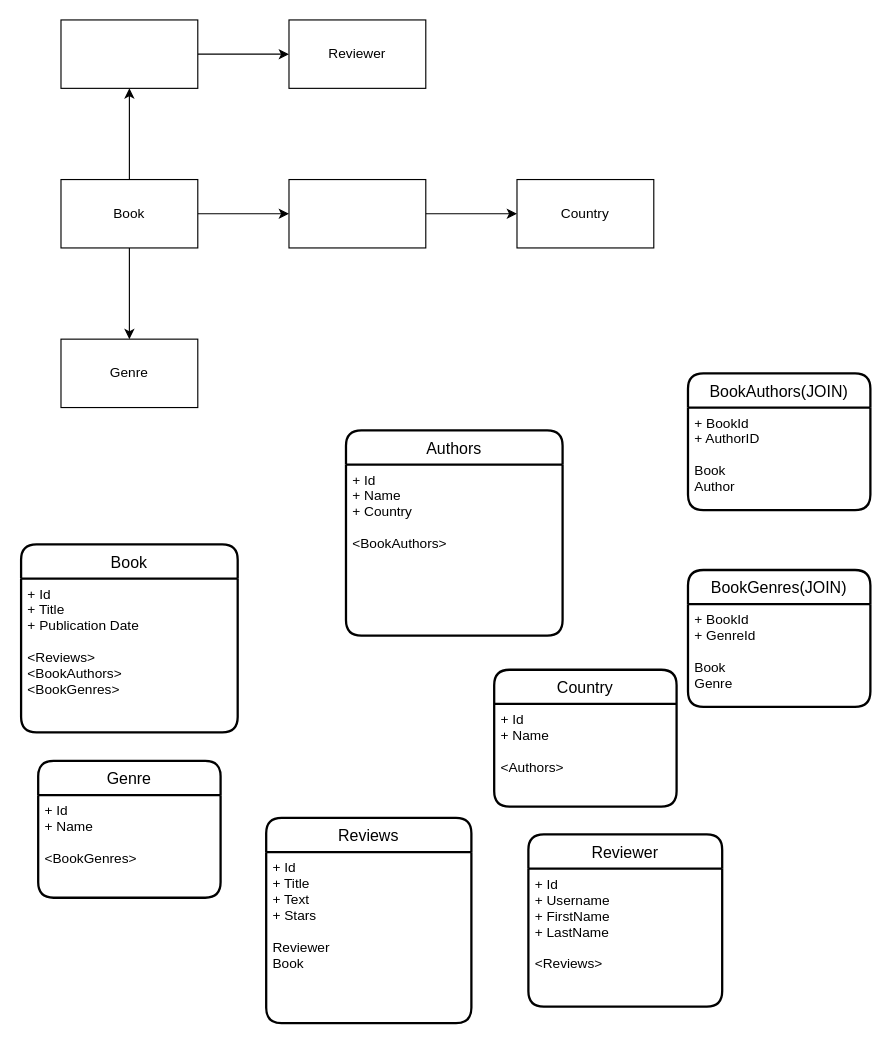
Image size: 890x1044. Some labels were removed from this diagram. The shapes that lost their labels are listed below. From the top down, each one's centre as x and y in pixels, then its label:
At point (129, 53): "Review".
At point (357, 213): "Author".
